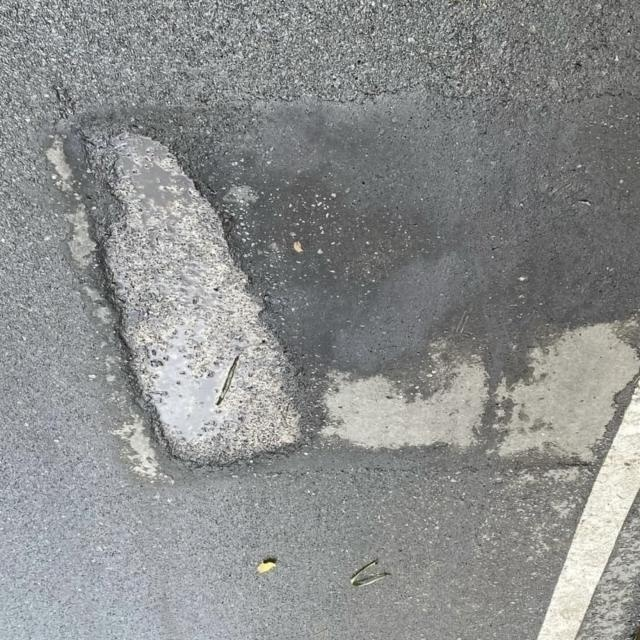pothole: (25, 68, 373, 503)
